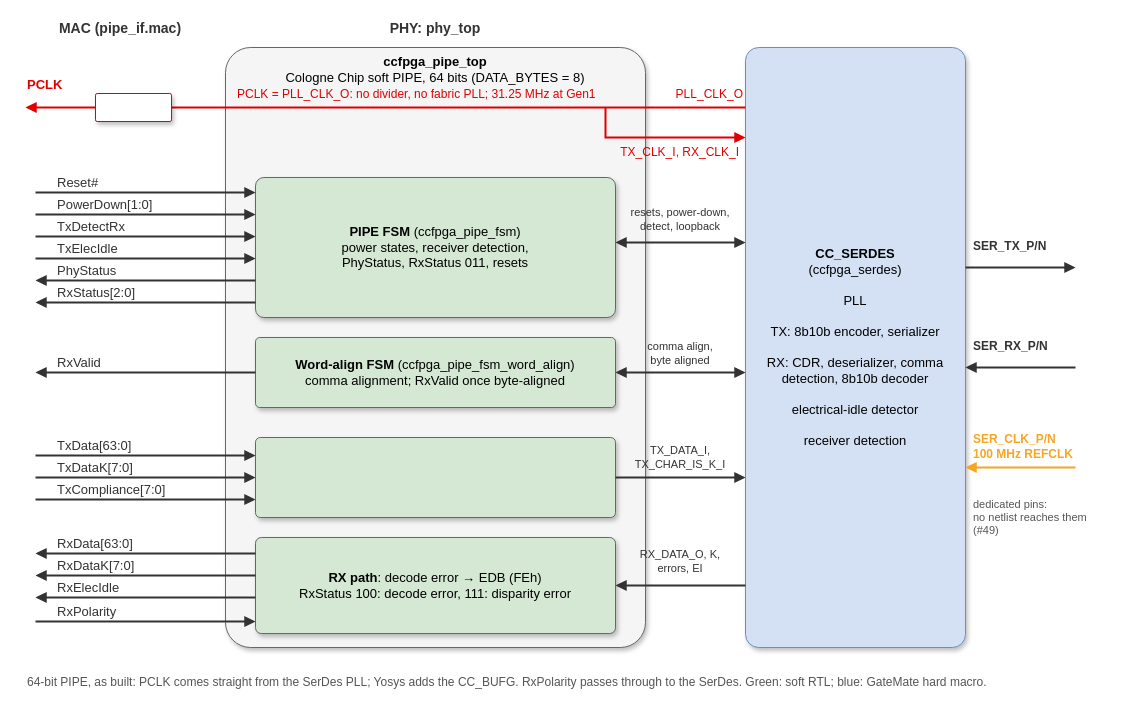
Some shapes in this 1128 by 719 pixel diagram are drawn without their labels. Here are the shapes that lost their labels. From the top down, the centre of each, then its label:
(134,108): CC_BUFG
(436,478): TX path : straight through TxCompliance sets the disparity
